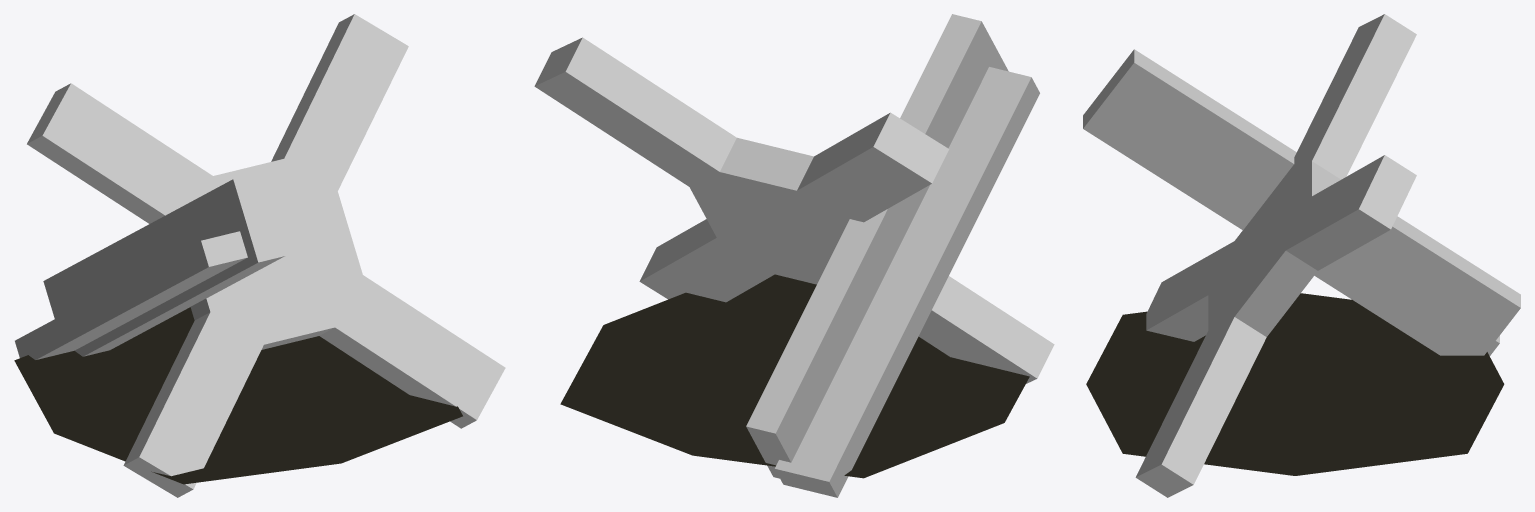
Rendered from Barrier_01.FBX.
3 views of the same model, side by side, from view 1: azimuth 30°, elevation 25°; view 2: azimuth 150°, elevation 25°; view 3: azimuth 270°, elevation 25° (orthographic). The views are drawn at different scales.
Visible parts, largest first — view 1: Box007, Plane034; view 2: Box007, Plane034; view 3: Box007, Plane034.
Boxes of the visible parts, left/top/right/bottom form: Box007: left=15, top=14, right=505, bottom=497; Plane034: left=14, top=307, right=462, bottom=484; Box007: left=534, top=14, right=1054, bottom=497; Plane034: left=560, top=274, right=1029, bottom=478; Box007: left=1083, top=14, right=1520, bottom=497; Plane034: left=1086, top=293, right=1504, bottom=475.
Bounding box in the file's own units: 146 × 121 × 140.
